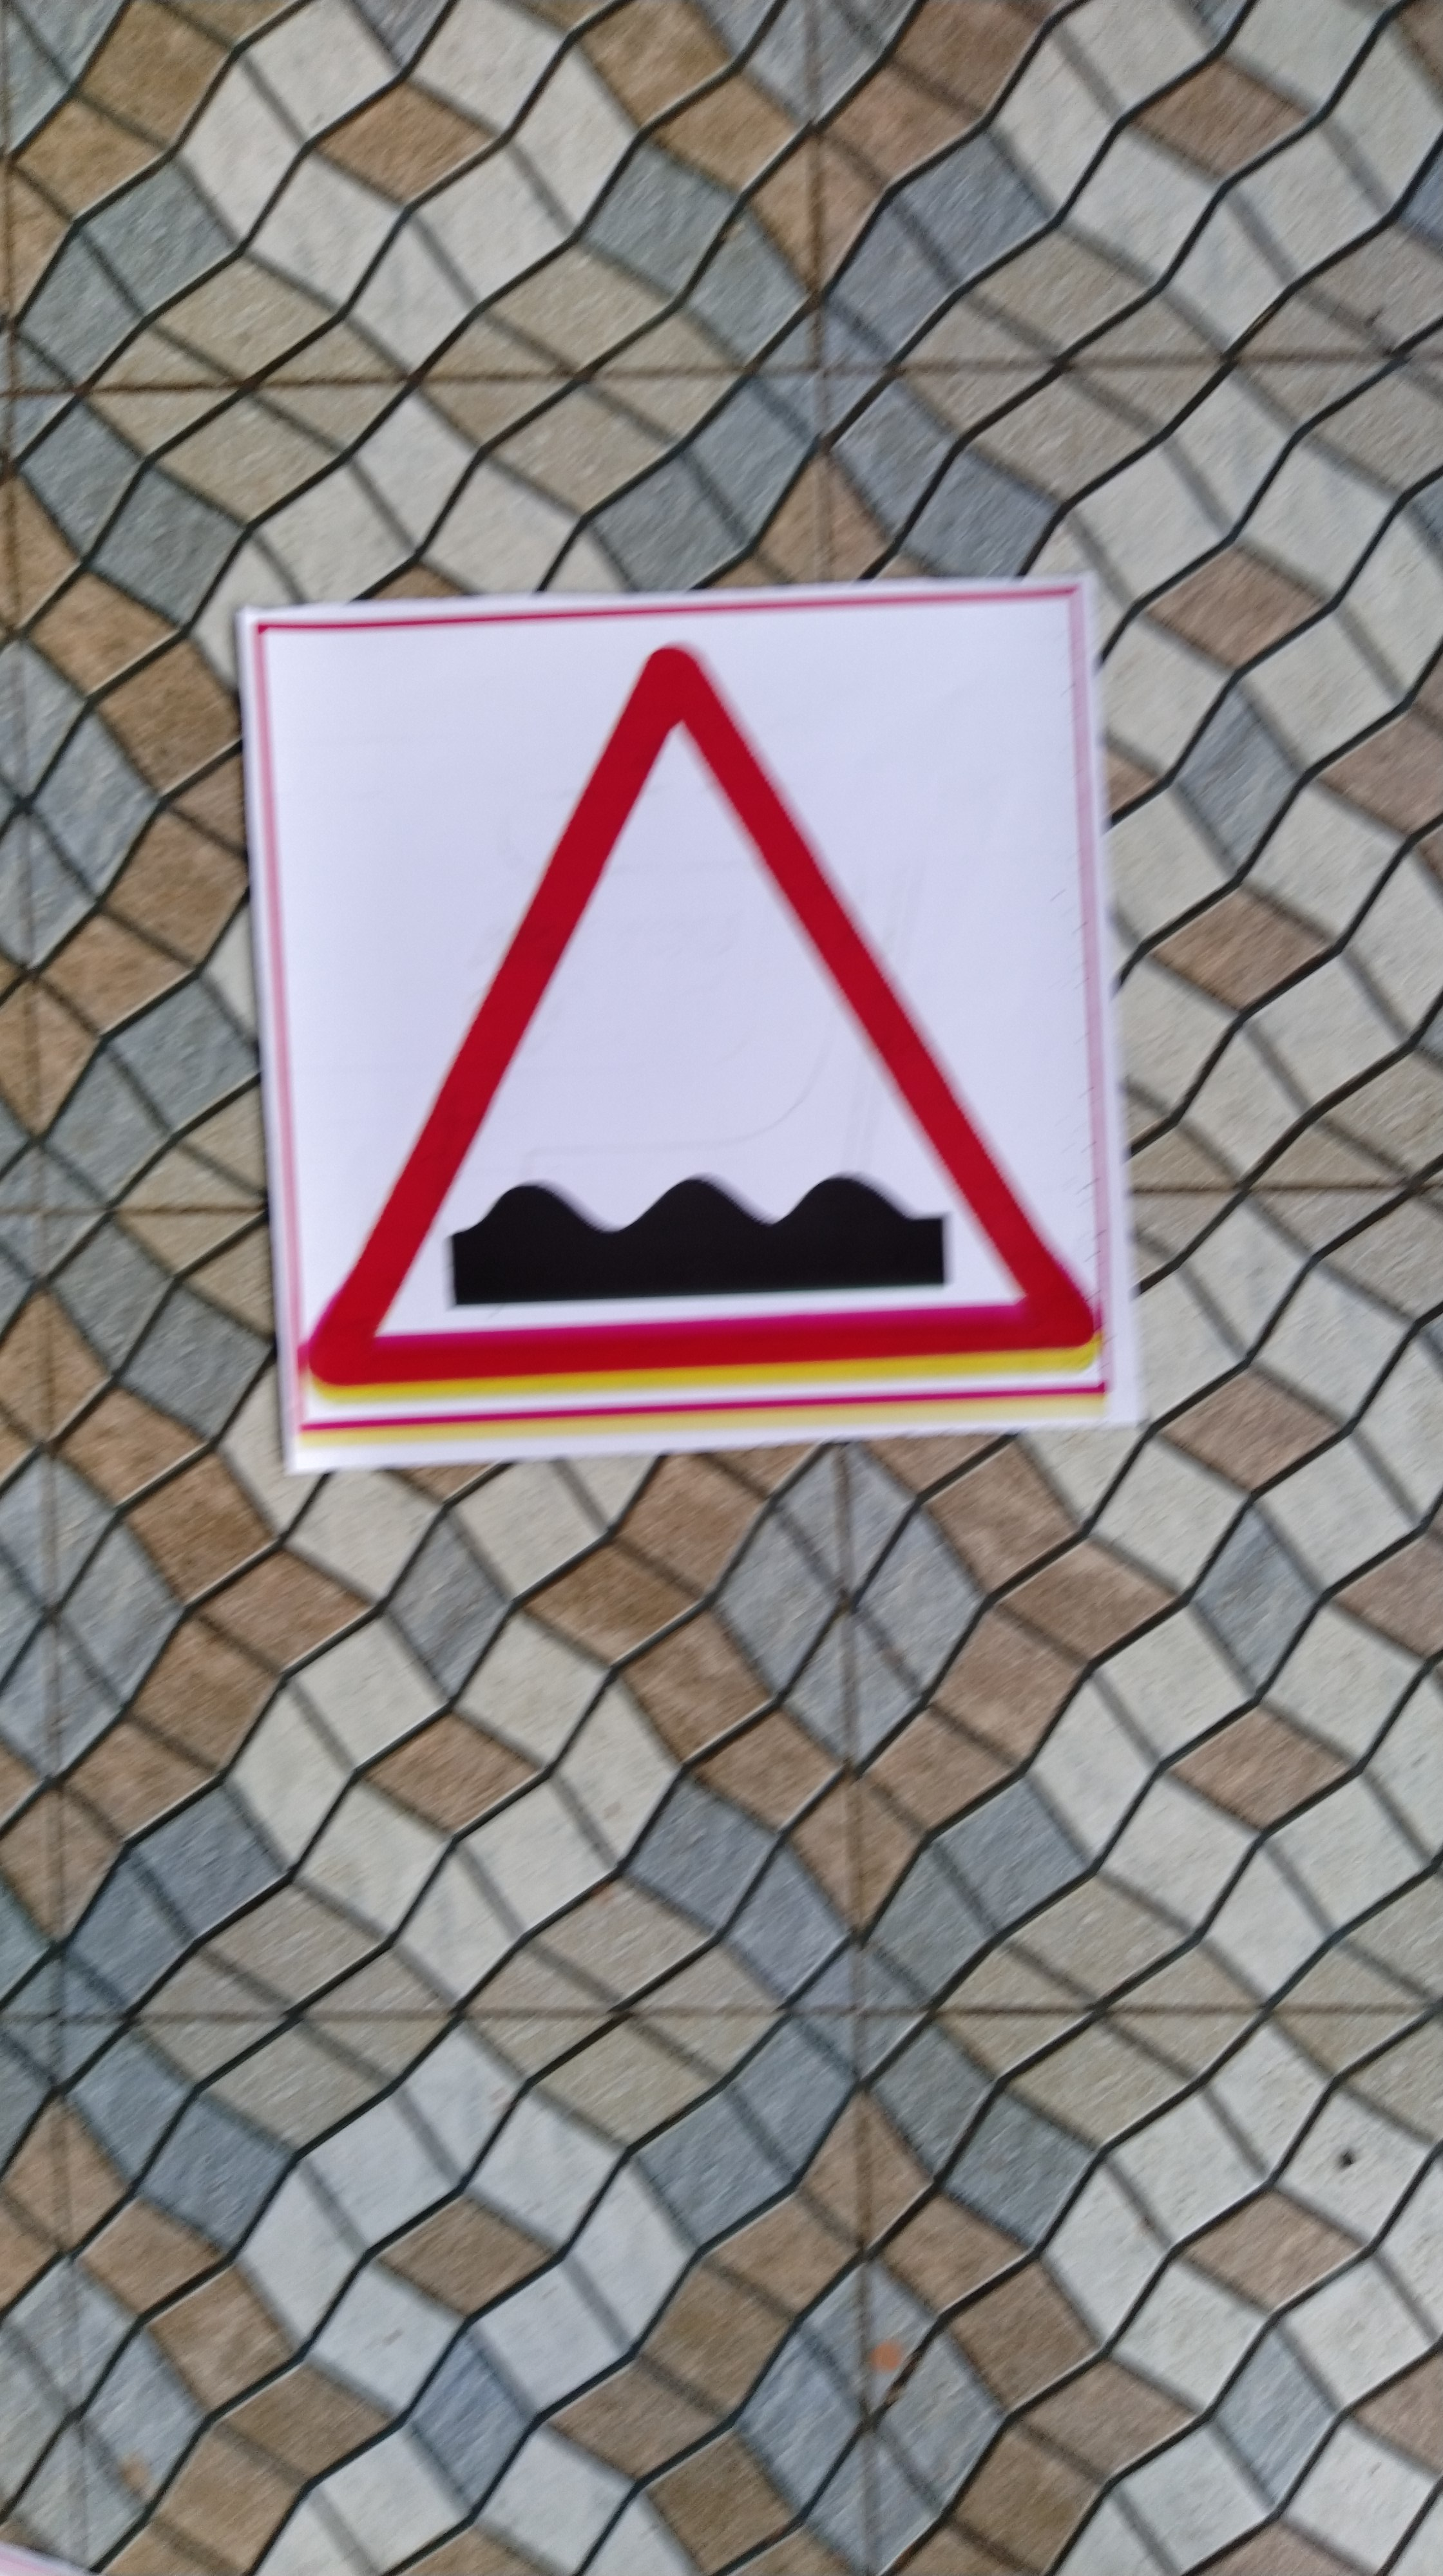speed breaker: (248, 607, 1138, 1438)
